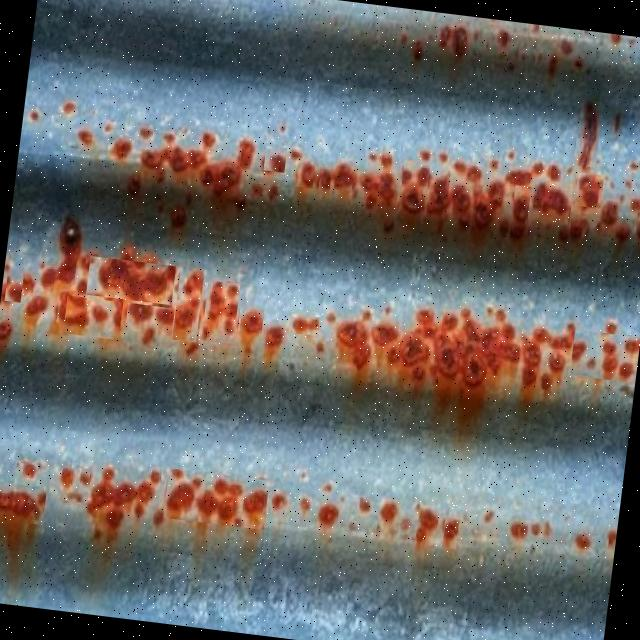Corrosion: (0, 0, 640, 640), (0, 206, 640, 432)
